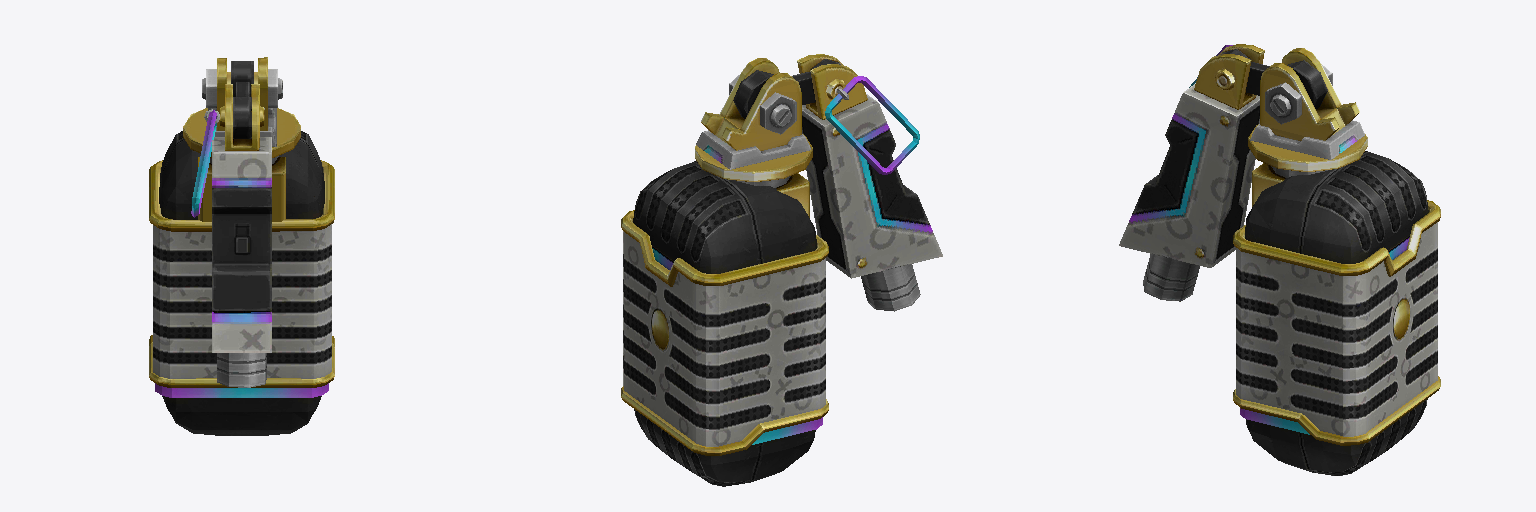
The picture shows the model from 3 angles: view 1: azimuth 30°, elevation 25°; view 2: azimuth 150°, elevation 25°; view 3: azimuth 270°, elevation 25°; orthographic projection.
Visible parts, largest first — view 1: ST_Fashiontrends_Grenade_0; view 2: ST_Fashiontrends_Grenade_0; view 3: ST_Fashiontrends_Grenade_0.
Part boxes in pixels (x1,y1,x2,y2): ST_Fashiontrends_Grenade_0: (149,57,334,435); ST_Fashiontrends_Grenade_0: (621,54,942,486); ST_Fashiontrends_Grenade_0: (1119,44,1440,475).
Bounding box in the file's own units: 0.4254 × 0.7215 × 0.5419.
1 materials, 1 textured.